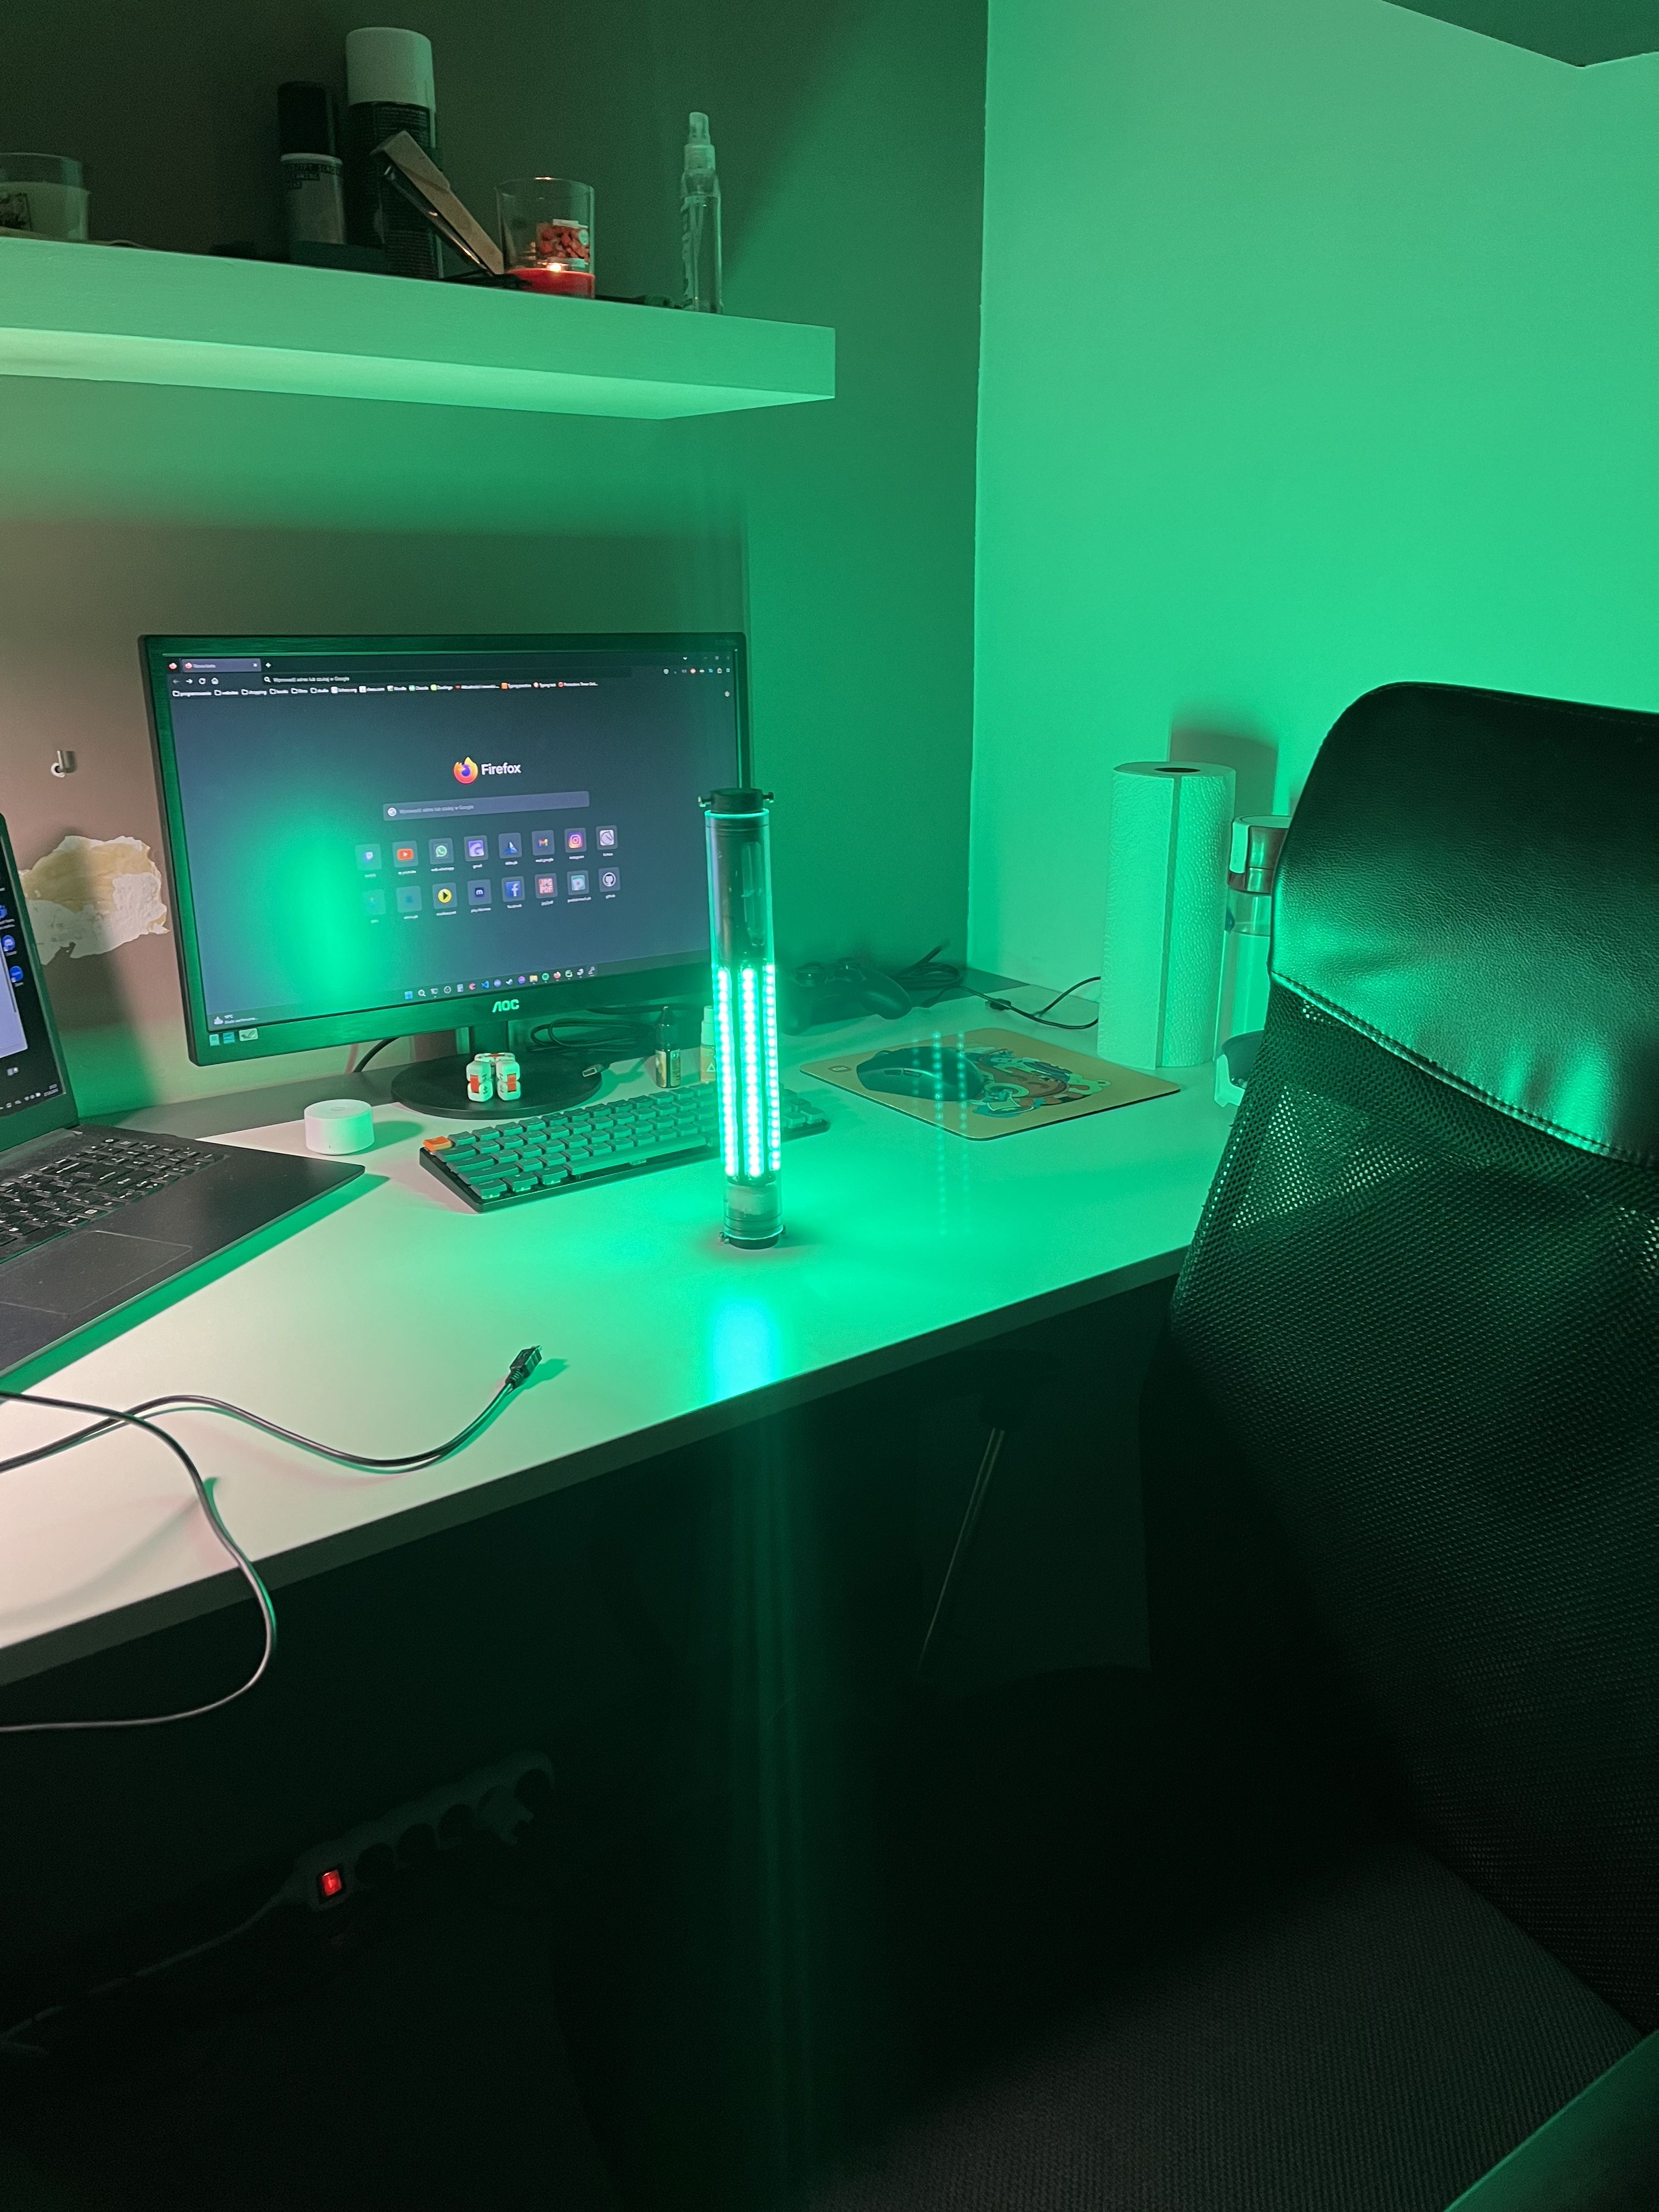green: (708, 810, 789, 1249)
